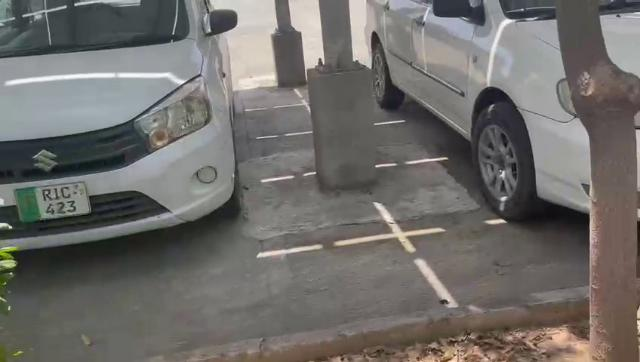plate: (11, 180, 93, 228)
